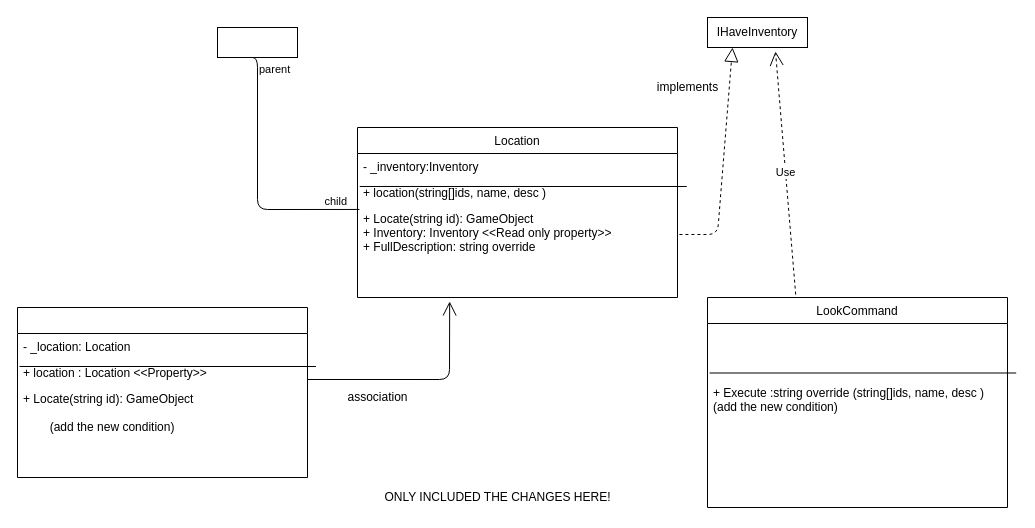
Image size: 1035x528. Some labels were removed from this diagram. The box of each missing label's shape, as (x1, y1, x2, y2) in pixels:
Item: (216, 26, 298, 58)
Player: (16, 306, 308, 478)
